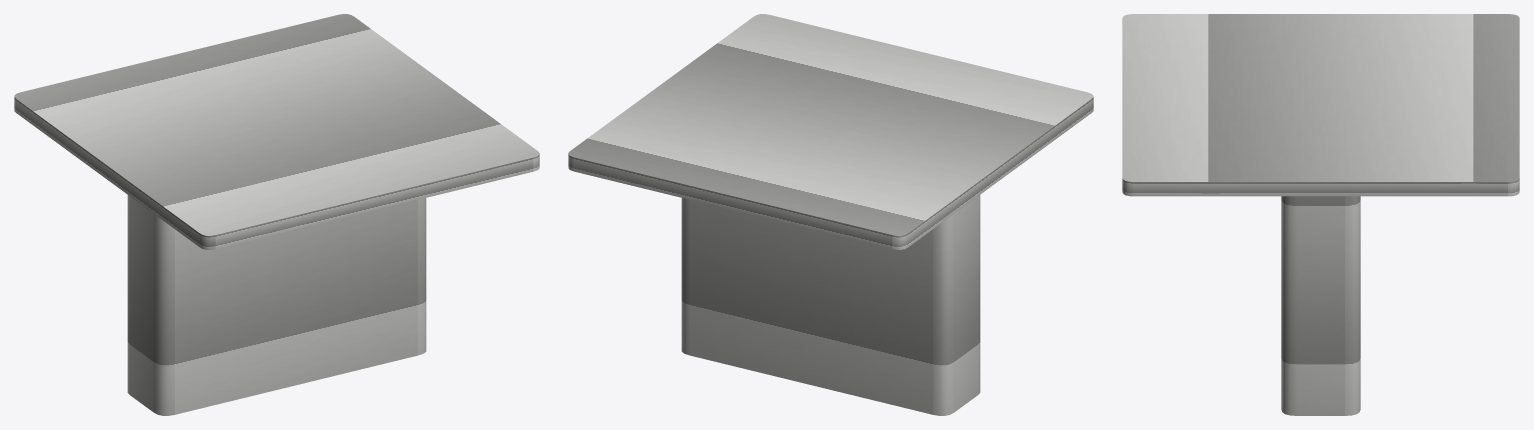
Rendered from Square Table New.FBX.
The picture shows the model from 3 angles, left to right: view 1: azimuth 30°, elevation 25°; view 2: azimuth 150°, elevation 25°; view 3: azimuth 270°, elevation 25°; orthographic projection.
Parts seen in each view (by area): view 1: Box001, Box002; view 2: Box001, Box002; view 3: Box001, Box002.
Part boxes in pixels (left/top/right/bottom): Box001: left=14, top=14, right=539, bottom=249; Box002: left=127, top=195, right=426, bottom=415; Box001: left=568, top=14, right=1093, bottom=249; Box002: left=681, top=195, right=980, bottom=415; Box001: left=1122, top=14, right=1519, bottom=196; Box002: left=1281, top=196, right=1360, bottom=415.
Bounding box in the file's own units: 50 × 34.79 × 50.
1 material, 1 textured.
